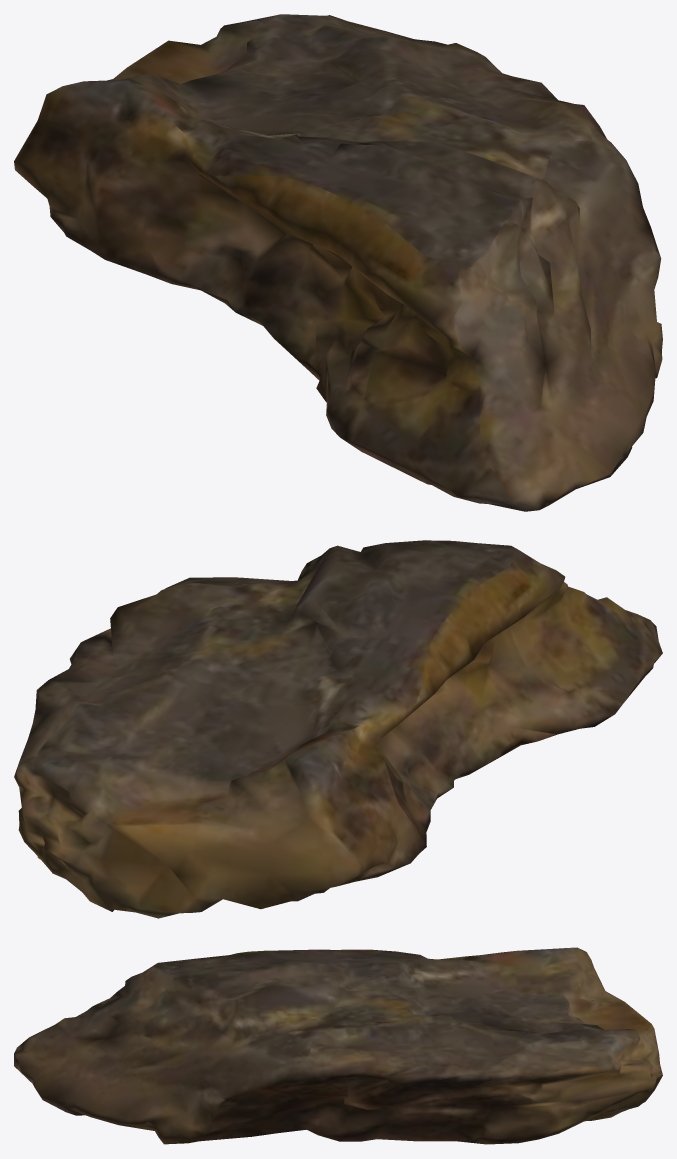
File: ph-rock-09.lod1.glb
The picture shows the model from 3 angles, top to bottom: view 1: azimuth 30°, elevation 25°; view 2: azimuth 150°, elevation 25°; view 3: azimuth 270°, elevation 25°; orthographic projection. The views are drawn at different scales.
Visible parts, largest first — view 1: rock_09_LOD0; view 2: rock_09_LOD0; view 3: rock_09_LOD0.
Part boxes in pixels (x1,y1,x2,y2): rock_09_LOD0: (14, 14, 662, 511); rock_09_LOD0: (14, 540, 662, 918); rock_09_LOD0: (14, 947, 662, 1144).
Bounding box in the file's own units: 0.0739 × 0.0326 × 0.1446.
Materials: 1 (1 with a texture image).
